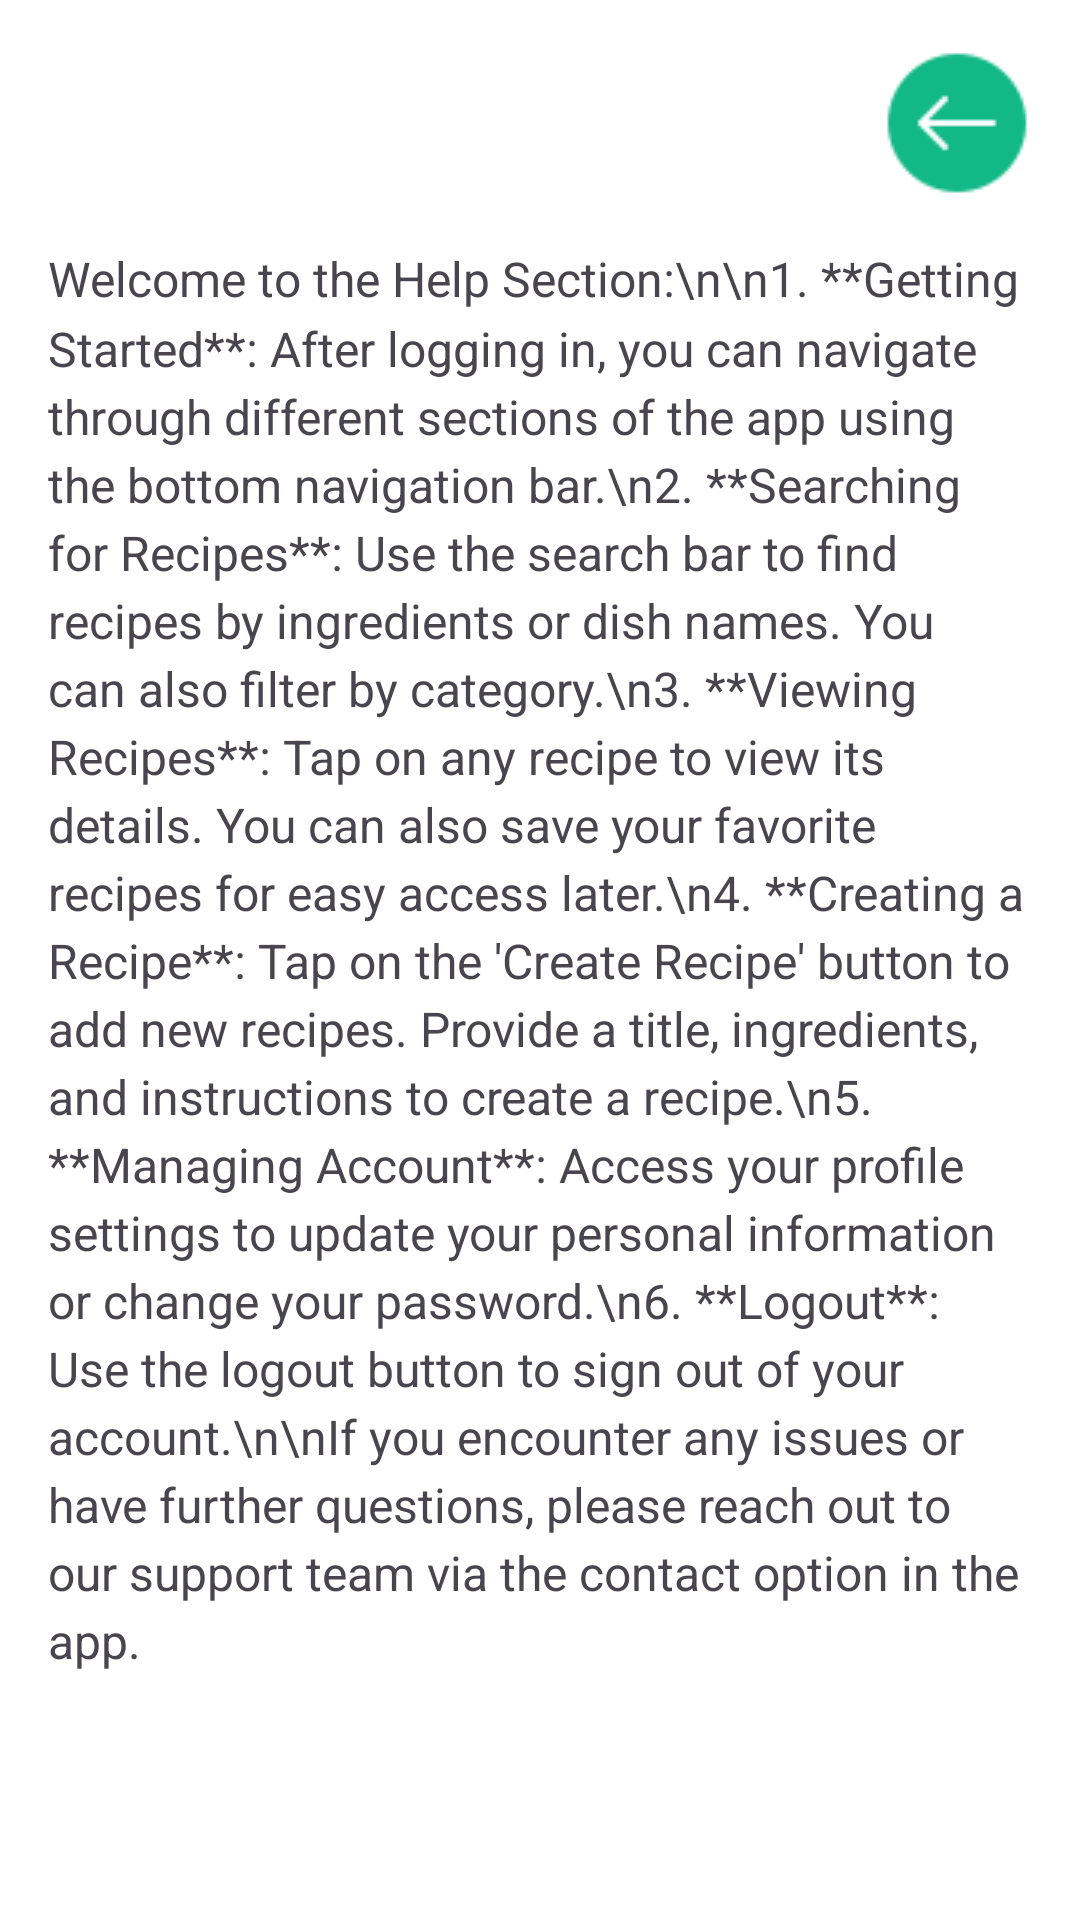

Point at icon controls on the screen. Image size 1080×1920, points as point (x, y).
back: point (957, 123)
